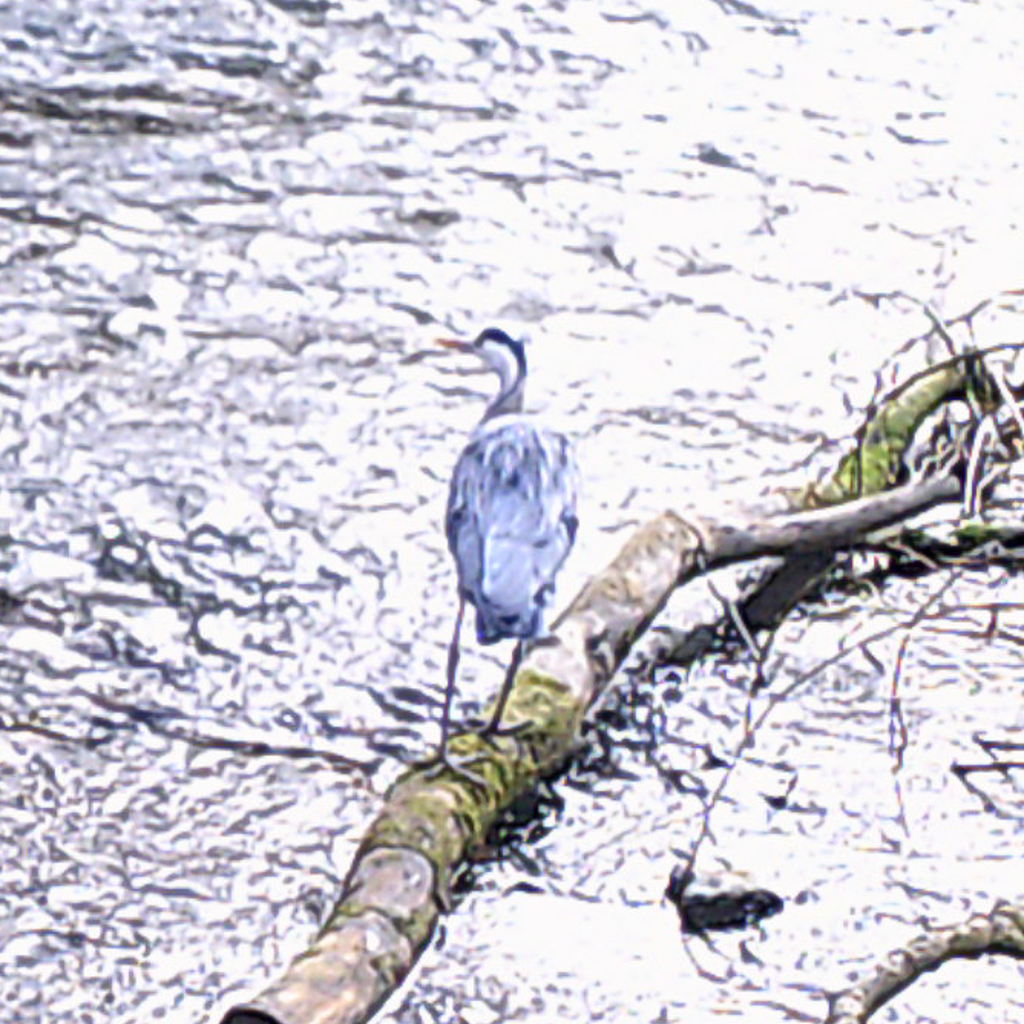heron: (432, 327, 581, 768)
